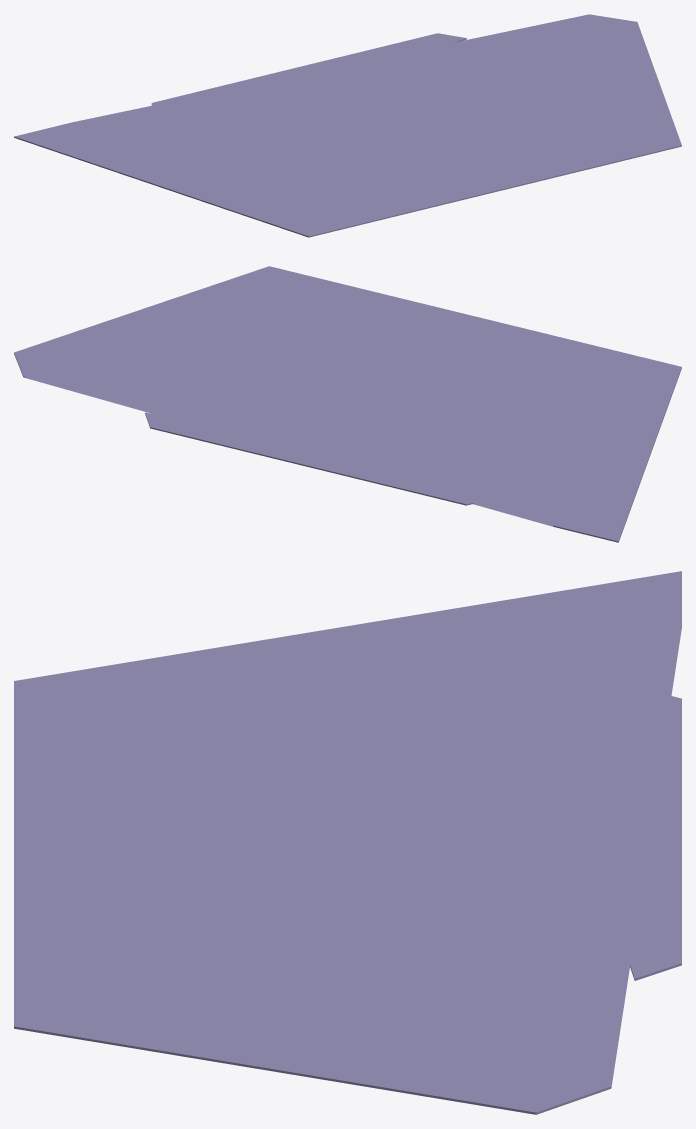
Rendered from Caminho.fbx.
3 renders of one model, top to bottom at view 1: azimuth 30°, elevation 25°; view 2: azimuth 150°, elevation 25°; view 3: azimuth 270°, elevation 25°, orthographic. The views are drawn at different scales.
Parts seen in each view (by area): view 1: AreaCompravel; view 2: AreaCompravel; view 3: AreaCompravel.
Part boxes in pixels (x1,y1,x2,y2): AreaCompravel: (14,14,681,237); AreaCompravel: (14,266,681,542); AreaCompravel: (14,571,681,1114).
Size of the model in its own units: 45.62 by 23.78 by 0.089.
